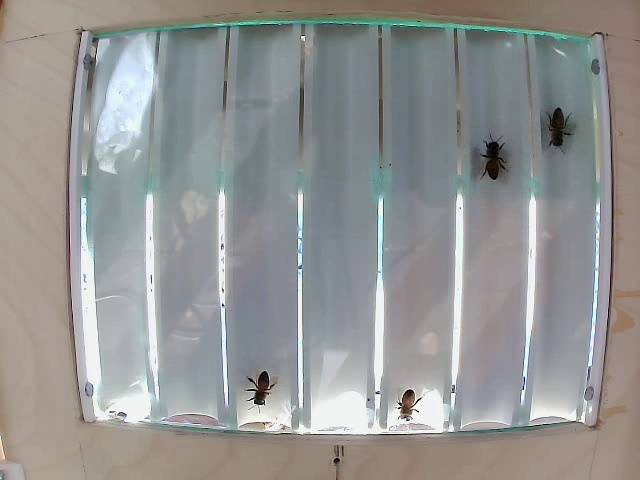bee: (241, 364, 291, 419), (478, 135, 510, 192), (541, 102, 566, 161), (400, 388, 430, 432)
